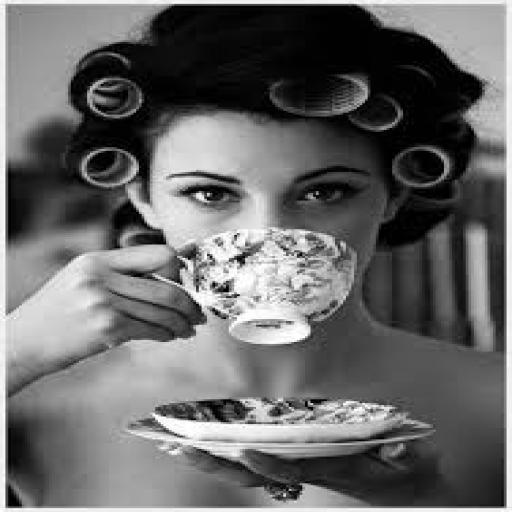drinking: (169, 225, 357, 346)
